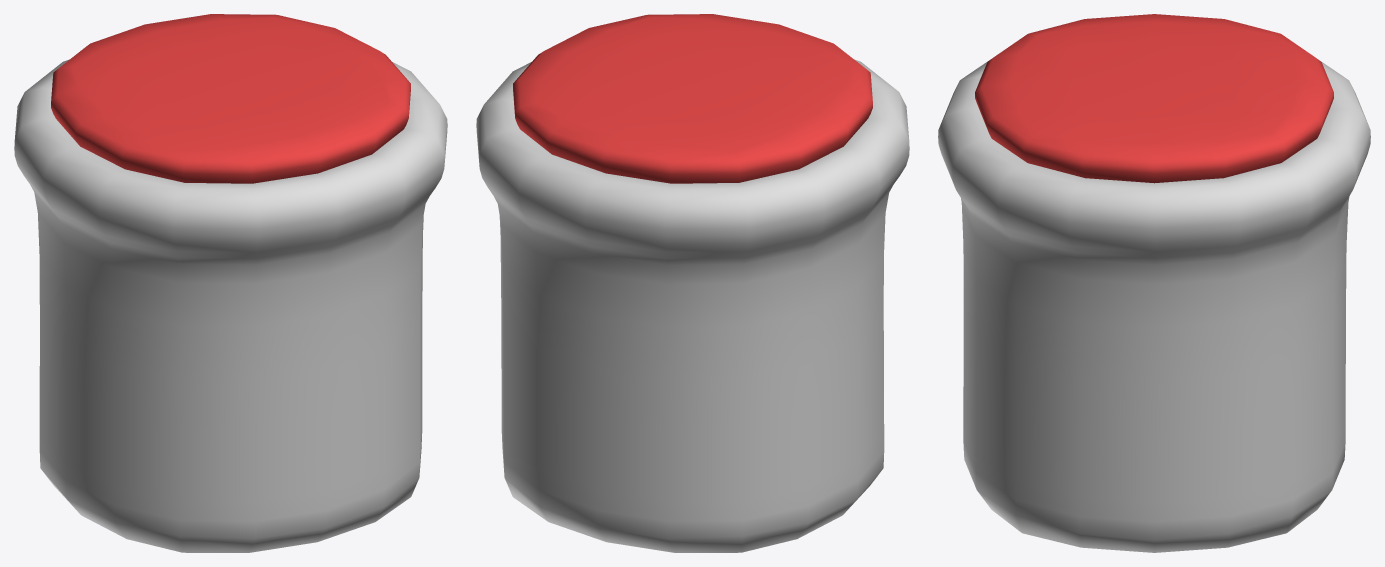
Rendered from PotVerre.fbx.
The picture shows the model from 3 angles, left to right: view 1: azimuth 30°, elevation 25°; view 2: azimuth 150°, elevation 25°; view 3: azimuth 270°, elevation 25°; orthographic projection.
Visible parts, largest first — view 1: Pot_Verre; view 2: Pot_Verre; view 3: Pot_Verre.
Part boxes in pixels (left/top/right/bottom): Pot_Verre: left=14, top=14, right=447, bottom=552; Pot_Verre: left=476, top=14, right=909, bottom=552; Pot_Verre: left=938, top=14, right=1370, bottom=552.
Size of the model in its own units: 581 by 596 by 581.
